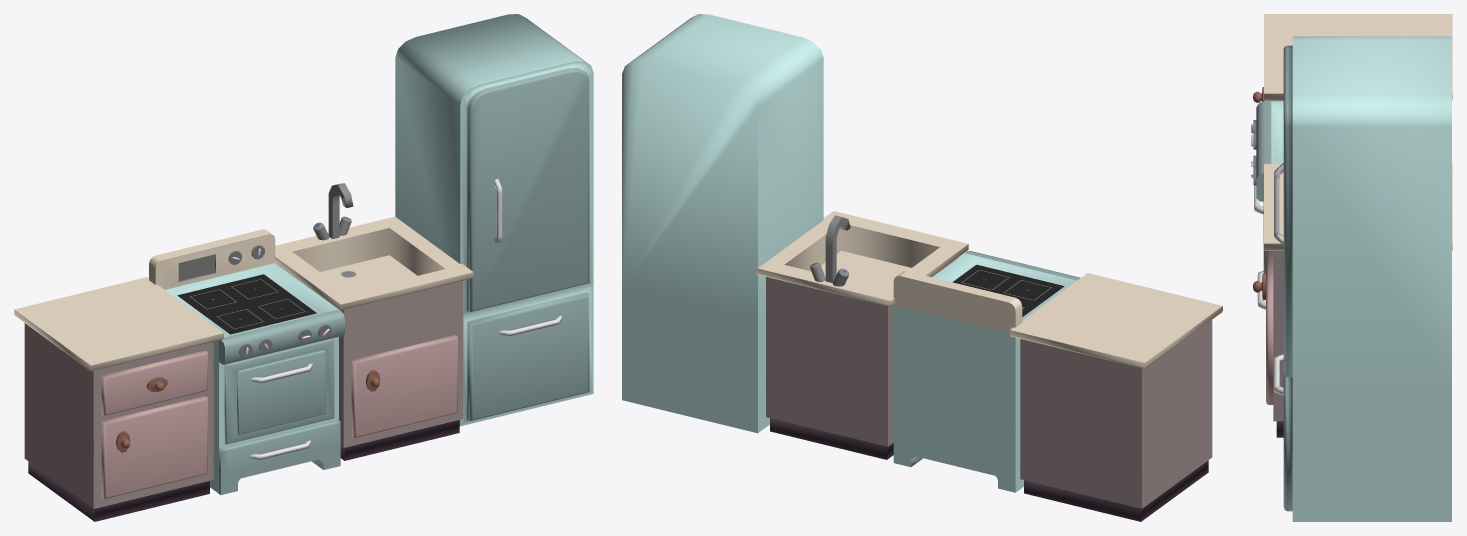
File: Kitchen Items.fbx
The picture shows the model from 3 angles, left to right: view 1: azimuth 30°, elevation 25°; view 2: azimuth 150°, elevation 25°; view 3: azimuth 270°, elevation 25°; orthographic projection. The views are drawn at different scales.
Parts seen in each view (by area): view 1: Fridge, Counter, Sink, Stove; view 2: Fridge, Counter, Sink, Stove; view 3: Fridge, Counter, Sink, Stove.
Part boxes in pixels (x1=…): Fridge: x1=395, y1=14, x2=593, y2=426; Counter: x1=14, y1=277, x2=223, y2=521; Sink: x1=274, y1=183, x2=473, y2=460; Stove: x1=149, y1=229, x2=344, y2=494; Fridge: x1=622, y1=14, x2=823, y2=433; Counter: x1=1009, y1=273, x2=1222, y2=521; Sink: x1=755, y1=211, x2=968, y2=459; Stove: x1=893, y1=250, x2=1080, y2=492; Fridge: x1=1274, y1=36, x2=1451, y2=521; Counter: x1=1253, y1=14, x2=1452, y2=102; Sink: x1=1253, y1=164, x2=1452, y2=437; Stove: x1=1251, y1=101, x2=1283, y2=309.
Bounding box in the file's own units: 8.58 × 2.37 × 5.38.
